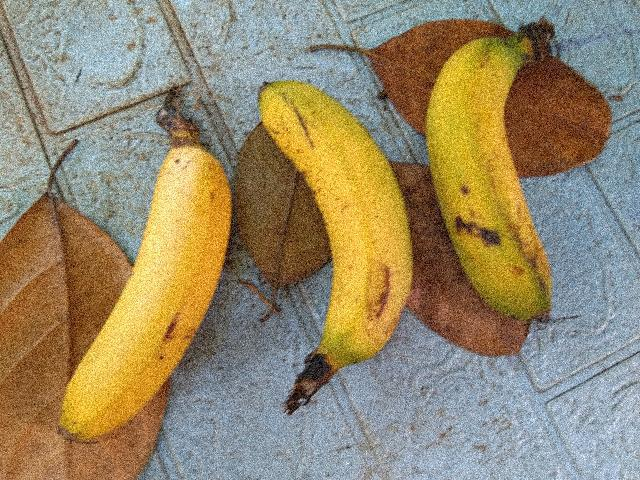freshripe: (53, 125, 237, 466)
ripe: (245, 62, 422, 417), (418, 9, 597, 332)
